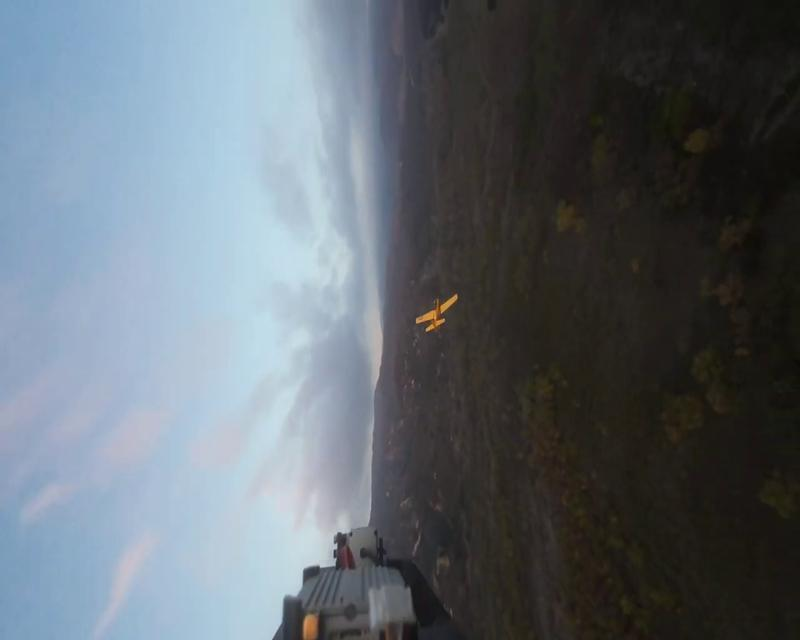UAV: (415, 294, 458, 332)
